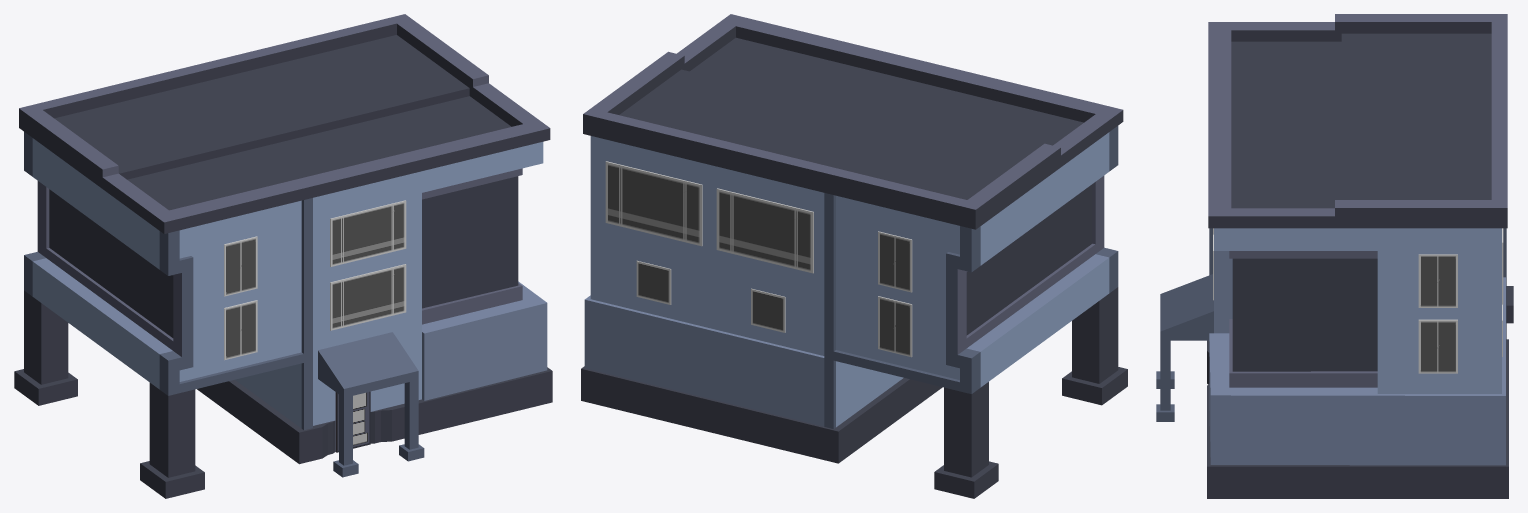
File: house10_color01.fbx
The picture shows the model from 3 angles, left to right: view 1: azimuth 30°, elevation 25°; view 2: azimuth 150°, elevation 25°; view 3: azimuth 270°, elevation 25°; orthographic projection. The views are drawn at different scales.
Visible parts, largest first — view 1: House010 V1; view 2: House010 V1; view 3: House010 V1.
Boxes of the visible parts, x1,y1,x2,y2 form: House010 V1: (14, 14, 552, 498); House010 V1: (581, 14, 1127, 498); House010 V1: (1156, 14, 1513, 498).
Bounding box in the file's own units: 1444 × 1000 × 1116.
